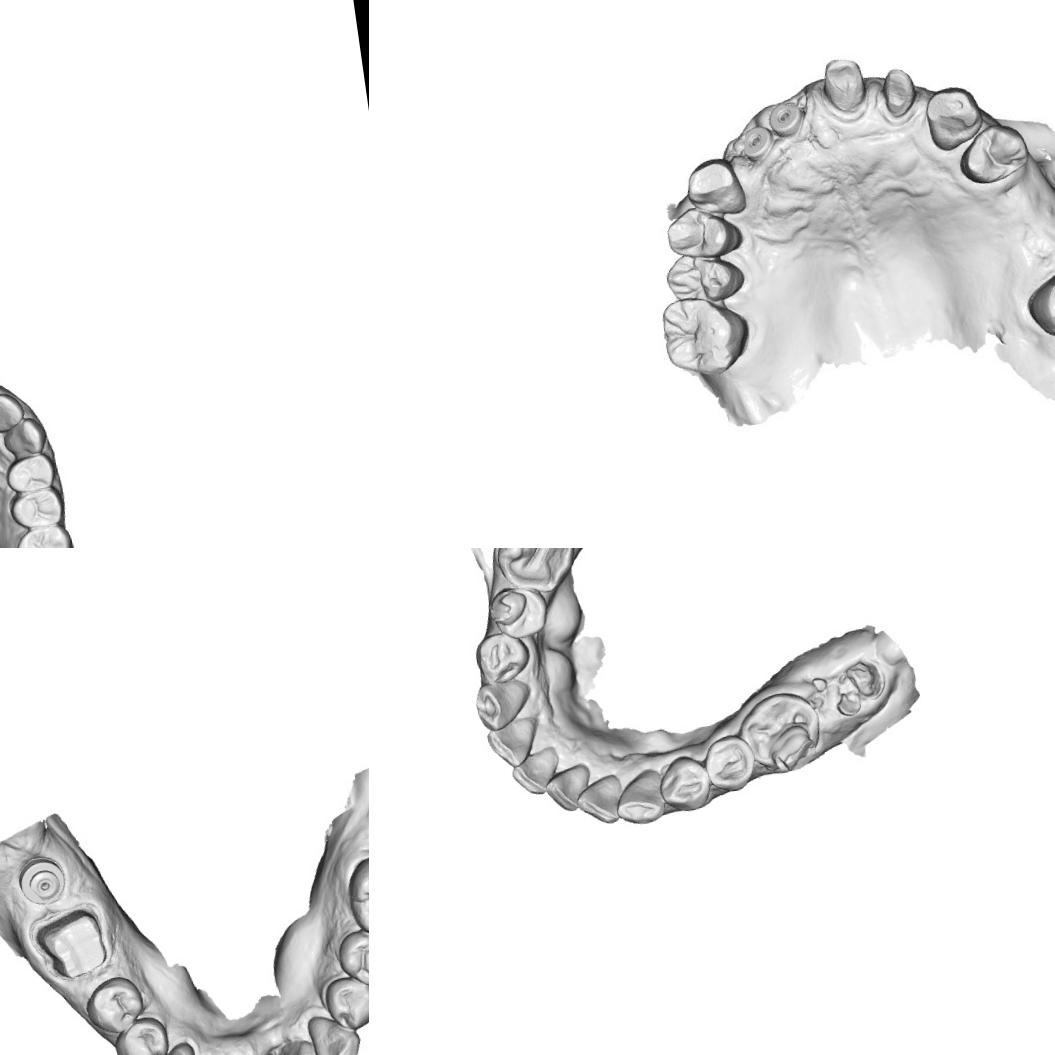canine: (916, 82, 988, 155), (682, 154, 754, 222), (471, 675, 536, 734), (611, 766, 670, 827), (304, 1009, 363, 1055), (0, 414, 50, 460), (145, 1039, 203, 1055)
crown: (31, 906, 112, 984), (815, 53, 870, 118), (874, 64, 923, 118)
implant: (13, 852, 70, 908), (738, 122, 776, 163), (767, 99, 805, 139)
incisor: (482, 716, 540, 771), (508, 744, 564, 800), (540, 760, 594, 818), (574, 772, 629, 828), (0, 389, 27, 435), (281, 1036, 344, 1055)
molar: (656, 292, 755, 382), (734, 687, 828, 778), (488, 548, 579, 599), (1021, 255, 1055, 349), (340, 847, 369, 948), (11, 522, 79, 548)
premolar: (952, 120, 1034, 192), (662, 249, 749, 312), (663, 204, 742, 264), (81, 972, 149, 1040), (486, 580, 555, 644), (654, 752, 715, 814), (701, 731, 759, 795), (472, 628, 534, 687), (319, 971, 369, 1034), (111, 1010, 173, 1055), (7, 485, 66, 531), (2, 451, 59, 494), (333, 924, 369, 992)
